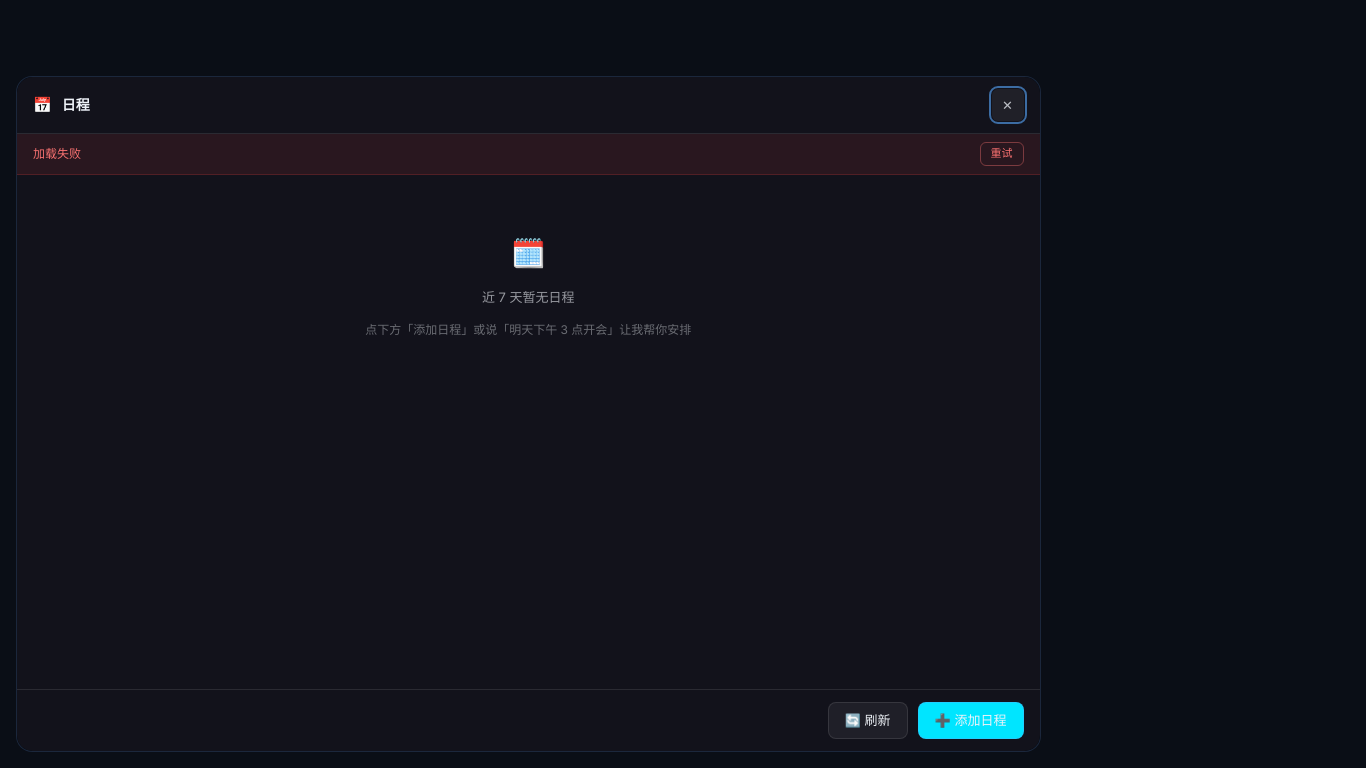
it: SchedulePanel 日程卡片 › 加载失败 → 错误条 + 重试
This screenshot has width=1366, height=768.
Expected: the text "加载失败 重试" is shown, [17,134,1040,175]
Click the button "重试" at (1002, 154), box [980,142,1024,166]
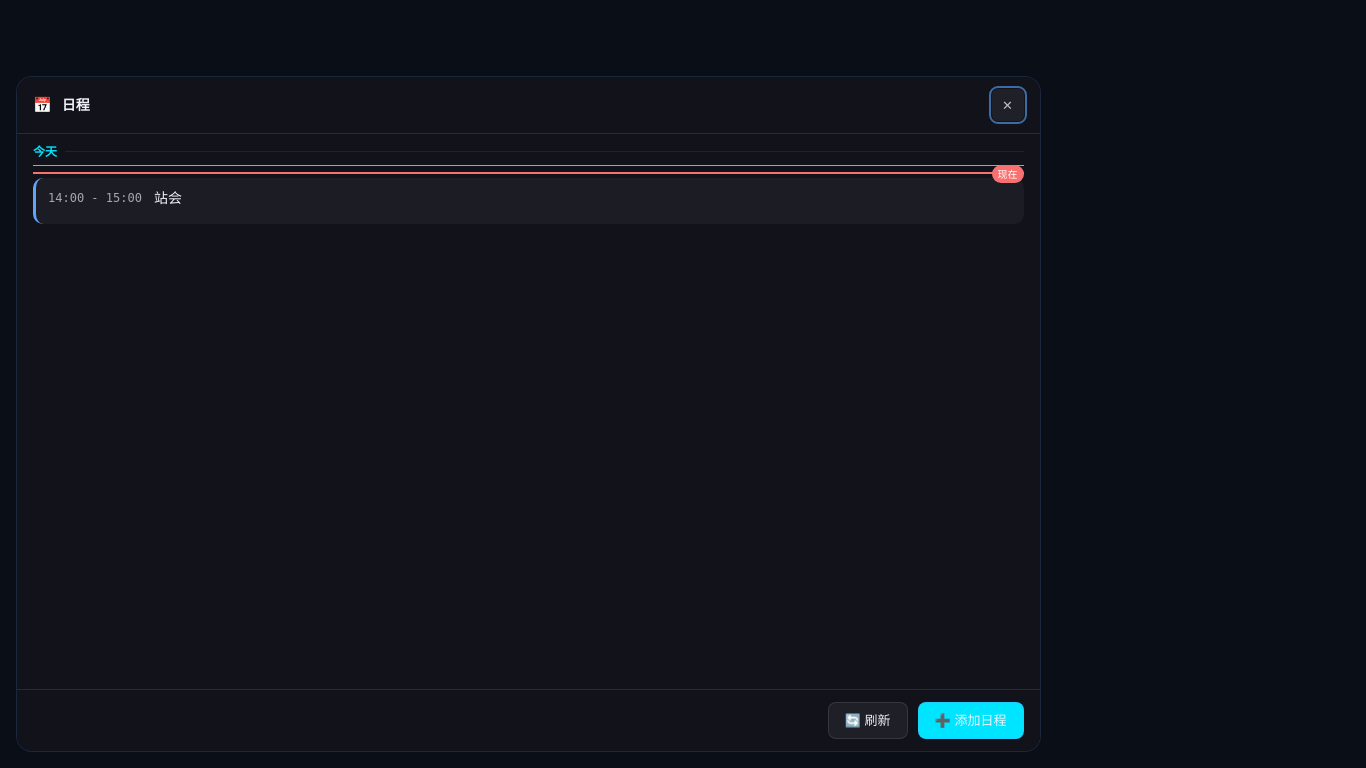
Expected: the text "站会" is shown, [154,187,182,210]
